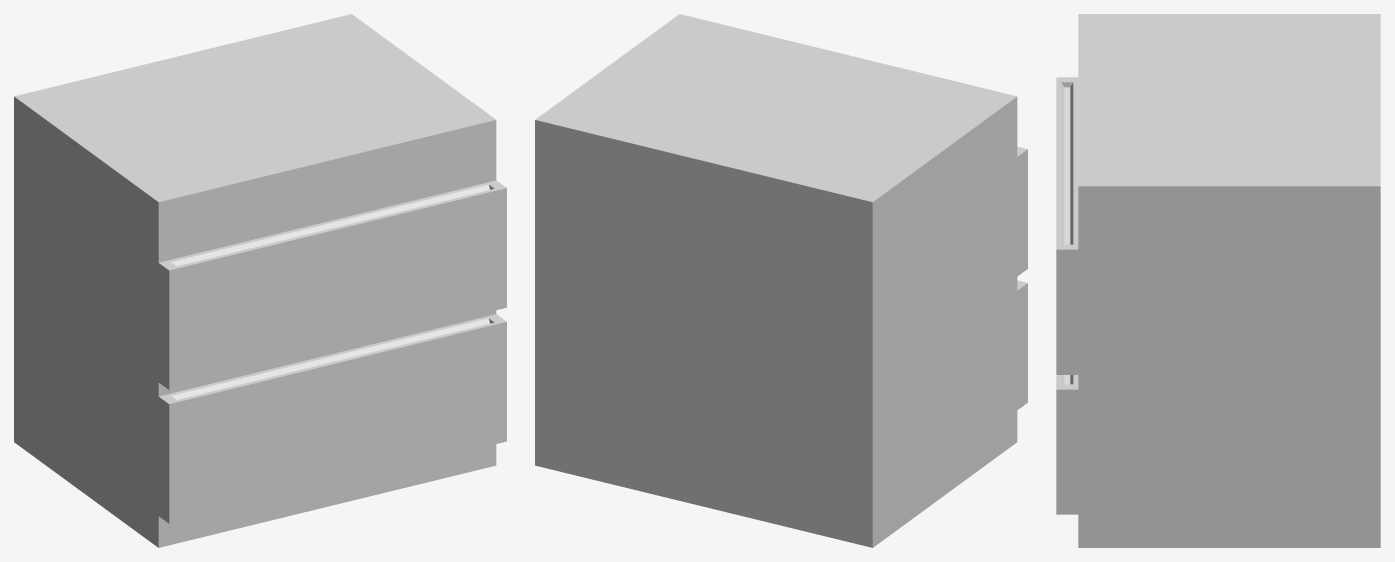
File: DresserV2.fbx
The picture shows the model from 3 angles, left to right: view 1: azimuth 30°, elevation 25°; view 2: azimuth 150°, elevation 25°; view 3: azimuth 270°, elevation 25°; orthographic projection. The views are drawn at different scales.
Visible parts, largest first — view 1: DresserV2; view 2: DresserV2; view 3: DresserV2.
Part boxes in pixels (box(x1,y1,x2,y2)): DresserV2: box(14, 14, 506, 547); DresserV2: box(535, 14, 1027, 547); DresserV2: box(1056, 14, 1380, 547).
Bounding box in the file's own units: 85.51 × 83.63 × 68.03.
